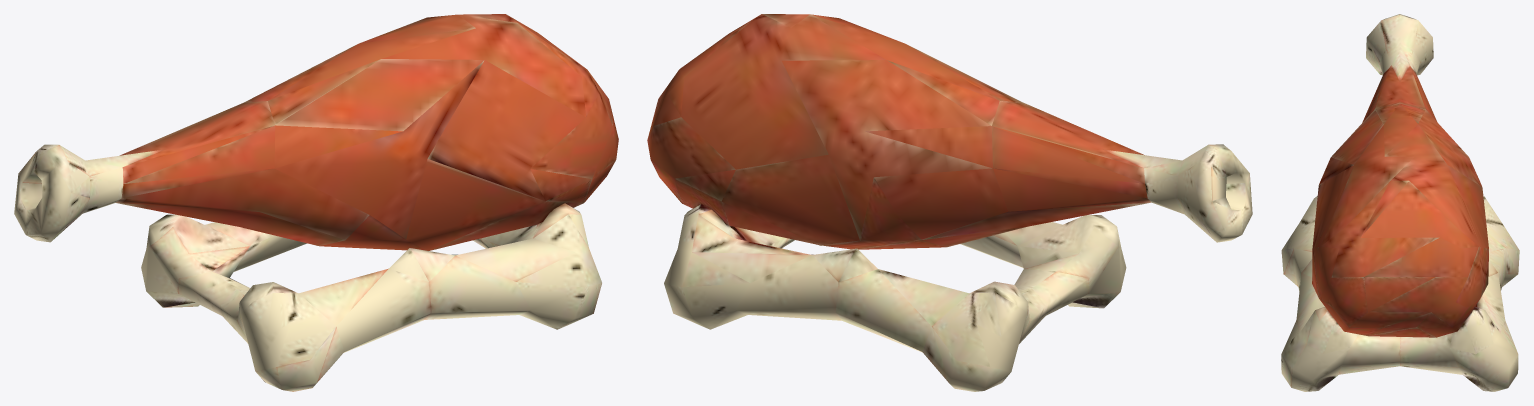
The model's file is ham.glb.
3 views of the same model, side by side, from view 1: azimuth 30°, elevation 25°; view 2: azimuth 150°, elevation 25°; view 3: azimuth 270°, elevation 25° (orthographic). The views are drawn at different scales.
Visible parts, largest first — view 1: ham; view 2: ham; view 3: ham.
Part boxes in pixels (<box>): ham: <box>14,14,618,391</box>; ham: <box>647,14,1252,391</box>; ham: <box>1281,14,1519,391</box>.
Bounding box in the file's own units: 0.9 × 0.4154 × 0.4108.
1 material, 1 textured.
